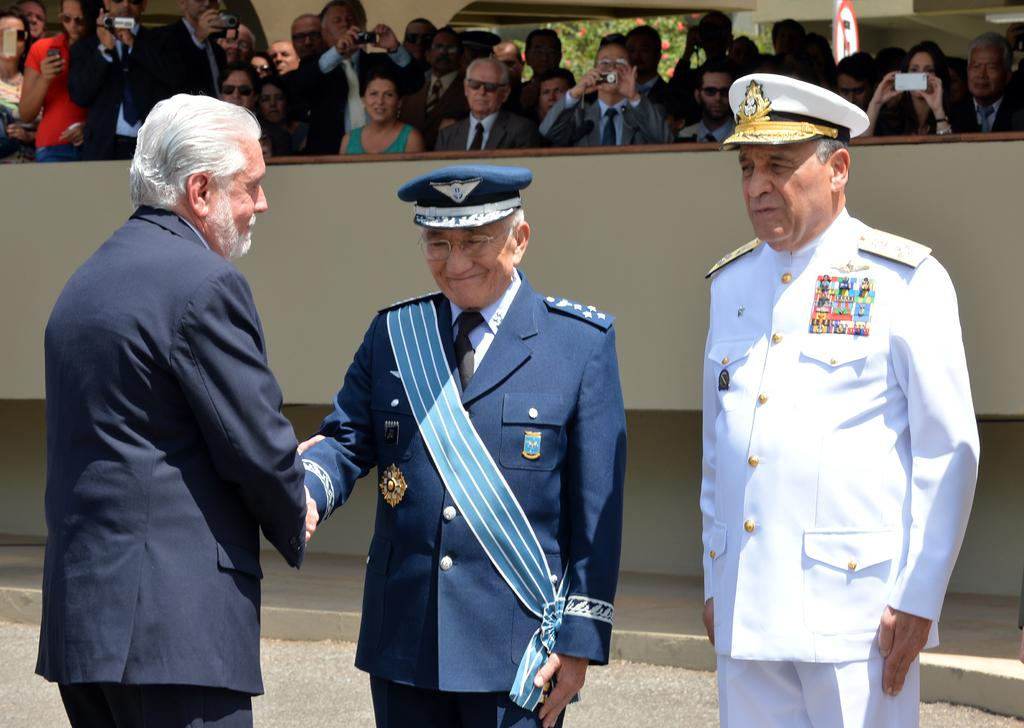Hat: (720, 74, 874, 154), (395, 164, 535, 228)
